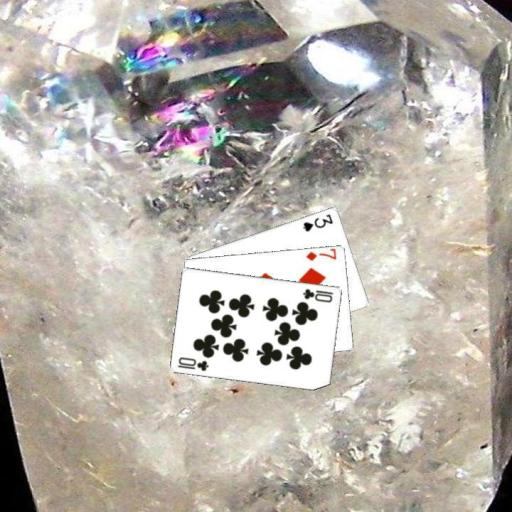card-corner: (300, 210, 334, 232), (300, 285, 335, 304), (175, 354, 210, 372), (303, 246, 338, 262)
